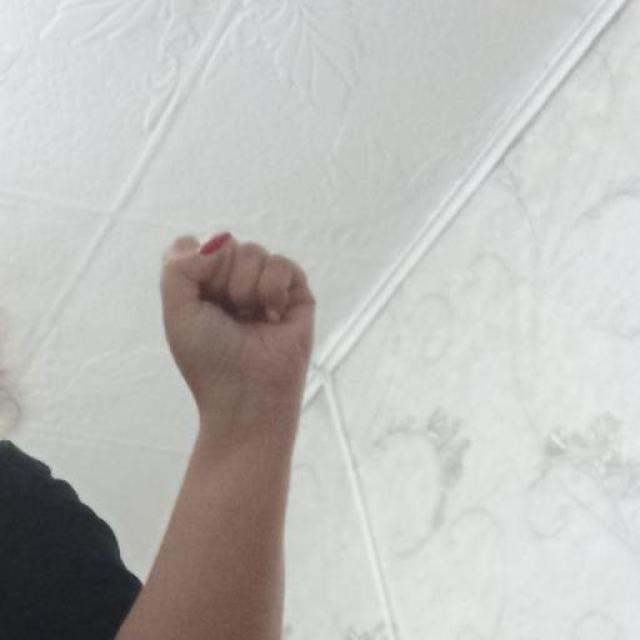hand: (158, 228, 316, 414)
